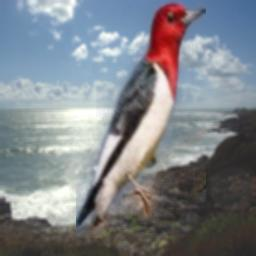Woodpecker: (76, 1, 206, 238)
